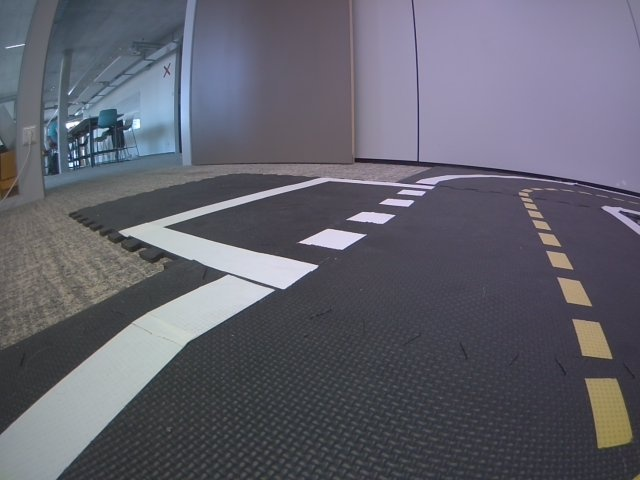freeSlot: (119, 176, 436, 289)
